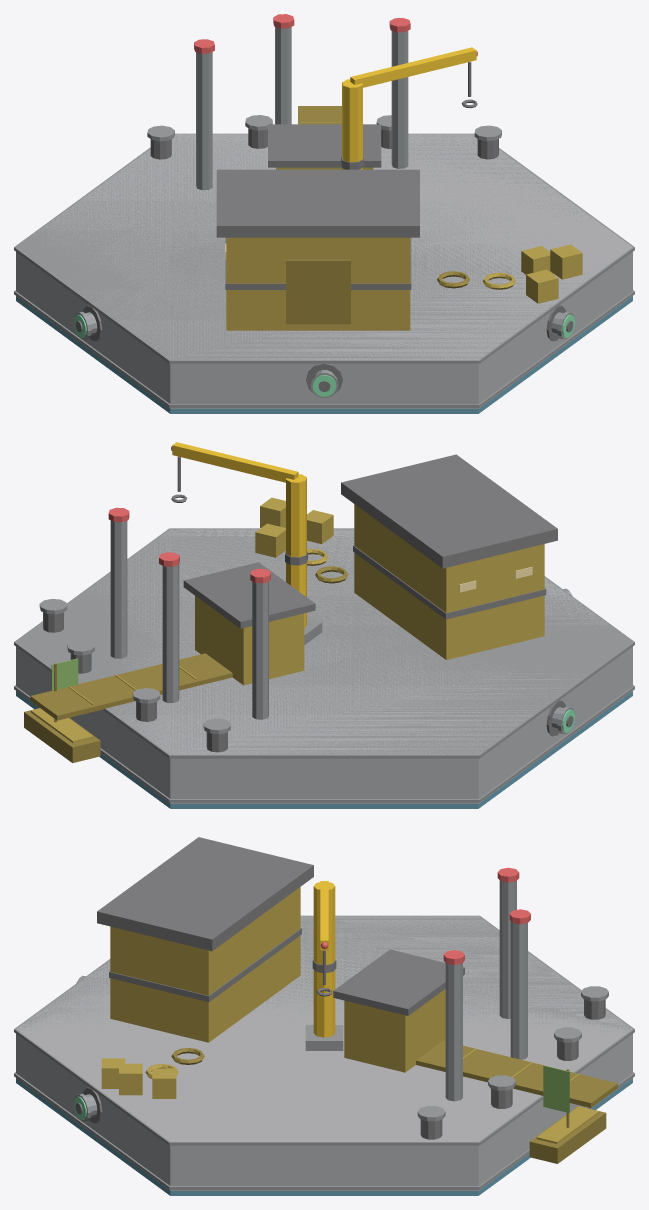
File: harbor_s2_100.glb
3 renders of one model, top to bottom at view 1: azimuth 30°, elevation 25°; view 2: azimuth 150°, elevation 25°; view 3: azimuth 270°, elevation 25°, orthographic.
Parts seen in each view (by area): view 1: HB_Kai, HB_Kai_Trim, HB_Warehouse1_Roof, HB_Warehouse1_Walls, HB_Warehouse1_Door, HB_Warehouse2_Roof, HB_Water, HB_Kai_BandLow, HB_Pillar_2, HB_Pillar_0, HB_Crane_Boom, HB_Crane_Shaft (+6 smaller); view 2: HB_Kai_Trim, HB_Kai, HB_Warehouse1_Walls, HB_Warehouse1_Roof, HB_Warehouse2_Walls, HB_Deck, HB_Warehouse2_Roof, HB_Water, HB_Kai_BandLow, HB_Pillar_0, HB_Pillar_1, HB_Pillar_2 (+9 smaller); view 3: HB_Kai, HB_Kai_Trim, HB_Warehouse1_Walls, HB_Warehouse1_Roof, HB_Warehouse2_Walls, HB_Warehouse2_Roof, HB_Deck, HB_Water, HB_Crane_Shaft, HB_Pillar_0, HB_Pillar_1, HB_Kai_BandLow (+10 smaller).
Part boxes in pixels (bbox=[...]): HB_Kai: bbox=[16, 134, 632, 408]; HB_Kai_Trim: bbox=[14, 133, 634, 363]; HB_Warehouse1_Roof: bbox=[216, 169, 419, 237]; HB_Warehouse1_Walls: bbox=[226, 237, 410, 330]; HB_Warehouse1_Door: bbox=[286, 259, 350, 324]; HB_Warehouse2_Roof: bbox=[268, 124, 381, 167]; HB_Water: bbox=[16, 296, 632, 413]; HB_Kai_BandLow: bbox=[14, 290, 634, 407]; HB_Pillar_2: bbox=[196, 52, 212, 190]; HB_Pillar_0: bbox=[391, 31, 408, 168]; HB_Crane_Boom: bbox=[350, 47, 476, 87]; HB_Crane_Shaft: bbox=[342, 79, 362, 169]; HB_Kai_Trim: bbox=[14, 528, 634, 758]; HB_Kai: bbox=[16, 529, 632, 803]; HB_Warehouse1_Walls: bbox=[354, 504, 544, 659]; HB_Warehouse1_Roof: bbox=[341, 454, 557, 568]; HB_Warehouse2_Walls: bbox=[195, 596, 304, 685]; HB_Deck: bbox=[30, 653, 232, 720]; HB_Warehouse2_Roof: bbox=[183, 562, 315, 628]; HB_Water: bbox=[16, 691, 632, 808]; HB_Kai_BandLow: bbox=[14, 685, 634, 802]; HB_Pillar_0: bbox=[110, 520, 127, 658]; HB_Pillar_1: bbox=[162, 564, 179, 702]; HB_Pillar_2: bbox=[252, 581, 268, 719]; HB_Kai: bbox=[16, 916, 632, 1190]; HB_Kai_Trim: bbox=[14, 915, 634, 1145]; HB_Warehouse1_Walls: bbox=[110, 887, 300, 1042]; HB_Warehouse1_Roof: bbox=[97, 837, 313, 951]; HB_Warehouse2_Walls: bbox=[344, 989, 445, 1072]; HB_Warehouse2_Roof: bbox=[333, 949, 464, 1015]; HB_Deck: bbox=[416, 1040, 617, 1107]; HB_Water: bbox=[16, 1078, 632, 1195]; HB_Crane_Shaft: bbox=[313, 882, 335, 1037]; HB_Pillar_0: bbox=[445, 963, 462, 1101]; HB_Pillar_1: bbox=[510, 921, 527, 1059]; HB_Kai_BandLow: bbox=[14, 1072, 634, 1189].
Size of the model in its own units: 5.11 by 2.2 by 5.74.
